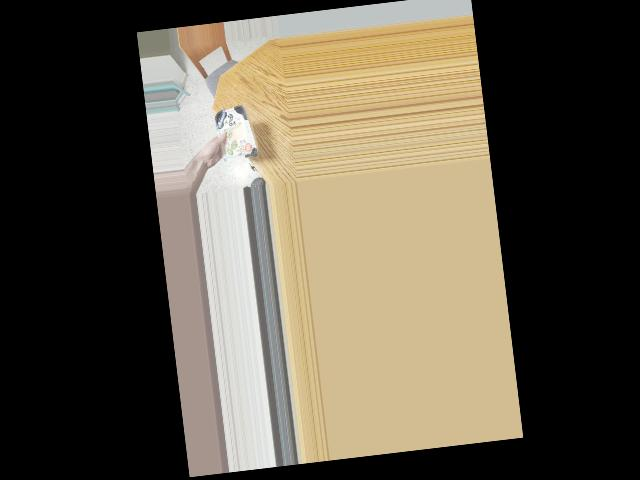cheese: (215, 105, 251, 158)
